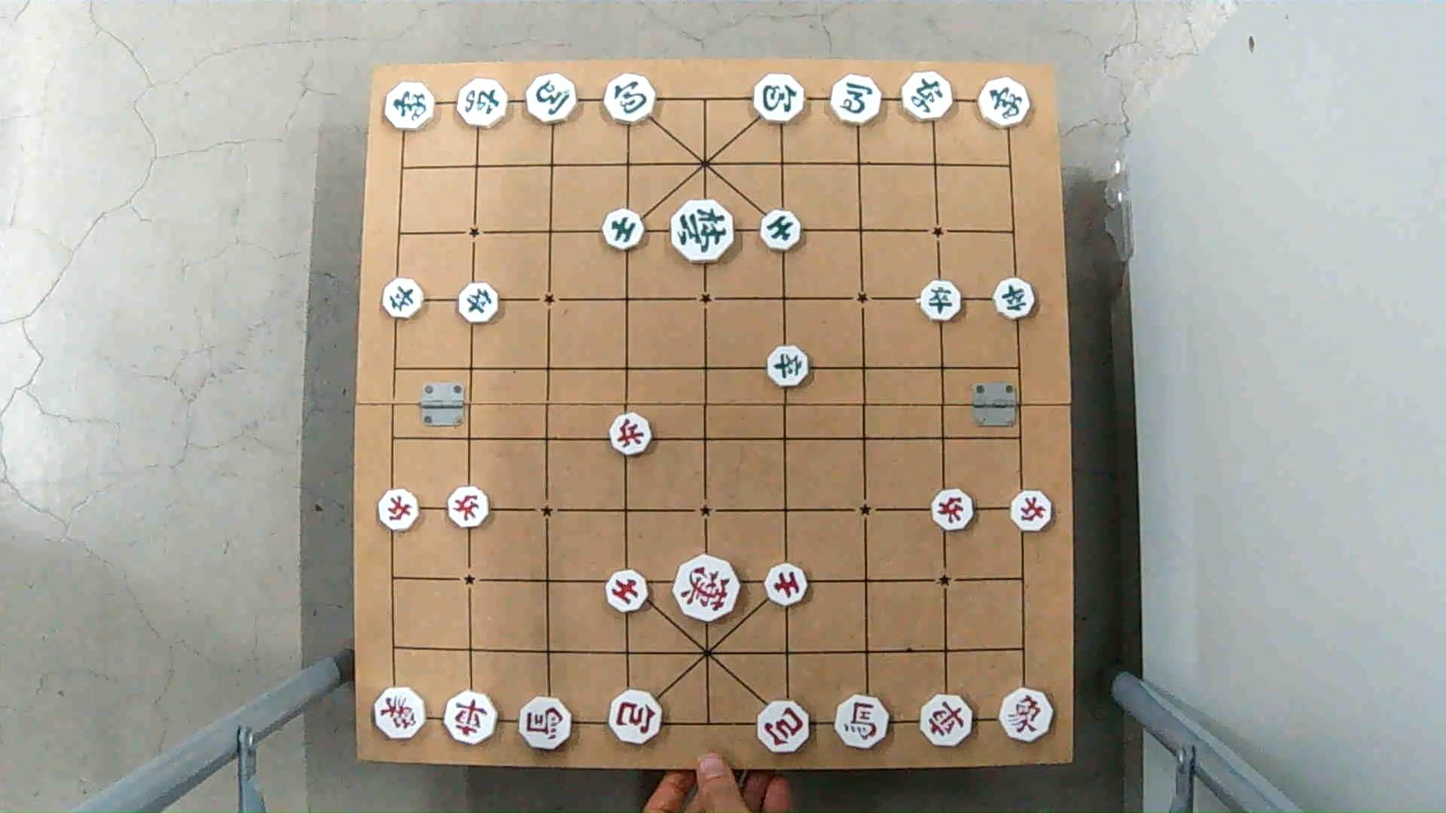cha_green: (455, 78, 509, 129), (904, 75, 959, 120)
cha_red: (917, 696, 978, 746), (443, 693, 502, 743)
jol_green: (993, 278, 1038, 321), (920, 282, 966, 323), (767, 348, 813, 386), (459, 285, 504, 323), (383, 283, 429, 318)
jol_red: (609, 417, 656, 455), (1008, 492, 1056, 529), (929, 491, 976, 528), (447, 489, 495, 525), (377, 495, 423, 531)
ma_green: (523, 76, 580, 121), (827, 78, 883, 123)
ma_red: (832, 698, 895, 748), (520, 698, 572, 747)
po_green: (603, 78, 657, 122), (754, 78, 805, 122)
po_red: (609, 693, 664, 744), (755, 704, 814, 751)
sa_green: (600, 210, 643, 249), (761, 214, 803, 251)
sa_red: (761, 567, 811, 605), (606, 571, 654, 610)
sang_green: (977, 80, 1030, 126), (382, 86, 436, 131)
sang_red: (1001, 690, 1053, 740), (374, 690, 427, 738)
wang_green: (670, 202, 738, 257)
wang_red: (673, 560, 743, 617)
